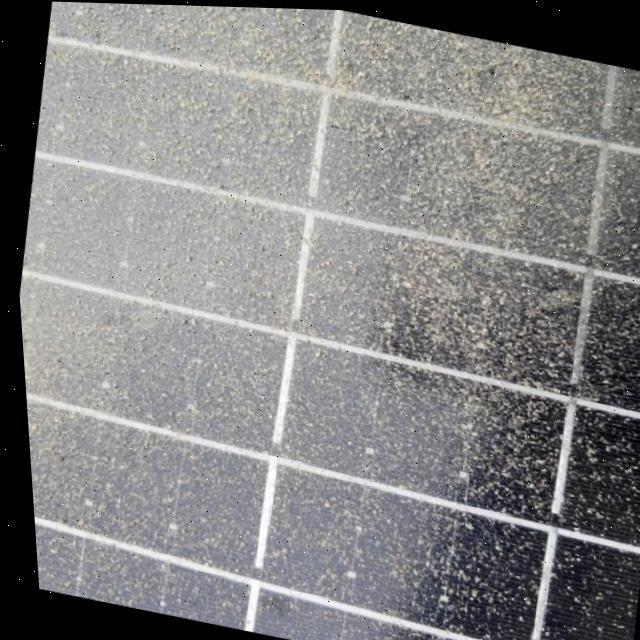Surface Contaminant: (20, 2, 640, 640)
